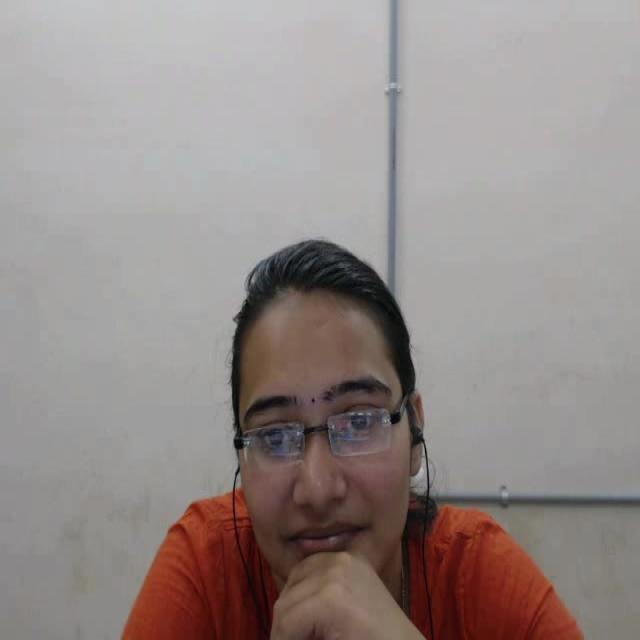Bored: (202, 206, 460, 640)
